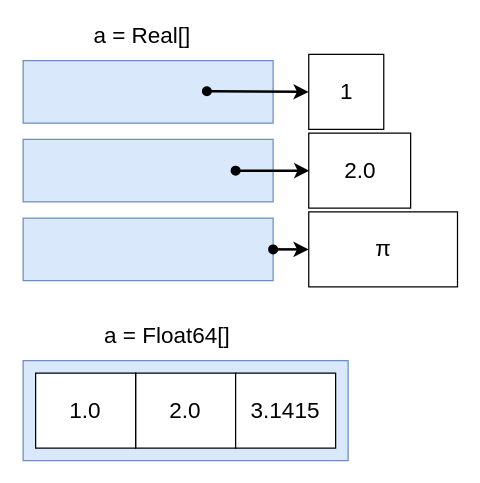
The diagram is 480 pixels wide and 483 high, and some of its shapes have lost their labels. Here are the shapes that lost their labels. From the top down, the box of each, then its label:
(22, 59, 273, 123): contents :: Int64
(22, 138, 273, 202): contents :: Float64
(22, 217, 273, 281): contents :: Irrational{:π}
